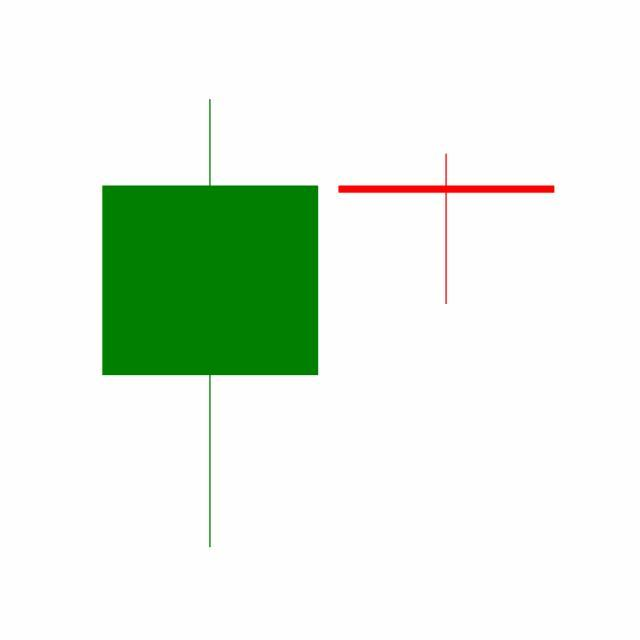Spinning Top: (328, 151, 566, 307)
